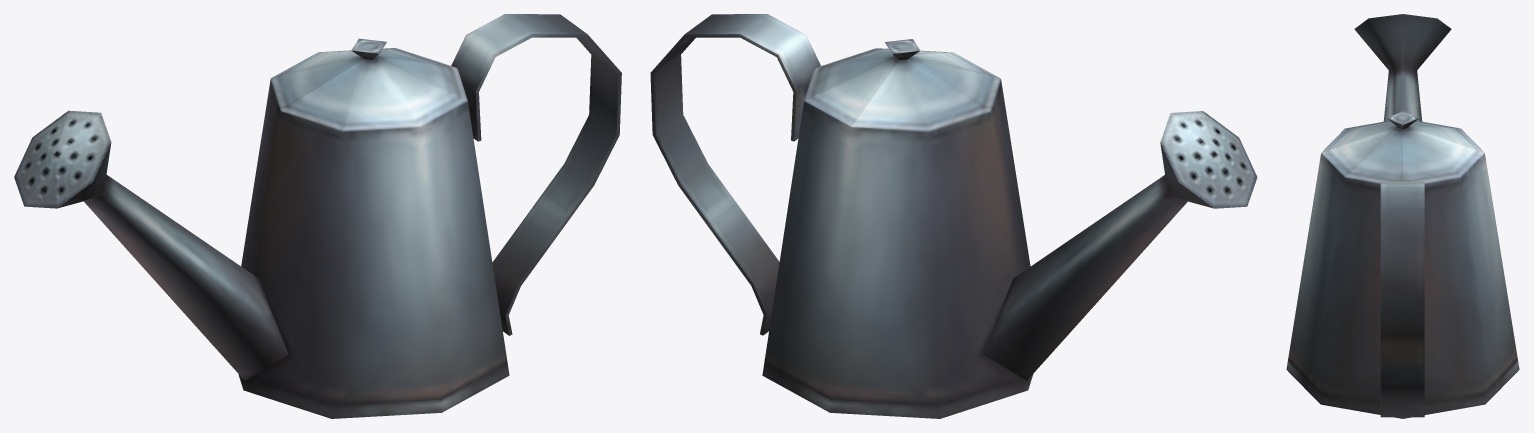
The picture shows the model from 3 angles, left to right: view 1: azimuth 30°, elevation 25°; view 2: azimuth 150°, elevation 25°; view 3: azimuth 270°, elevation 25°; orthographic projection. The views are drawn at different scales.
Parts seen in each view (by area): view 1: 293612; view 2: 293612; view 3: 293612.
Part boxes in pixels (box(x1,y1,x2,y2)): 293612: box(14, 14, 621, 418); 293612: box(650, 14, 1257, 418); 293612: box(1286, 14, 1519, 418).
Size of the model in its own units: 188 by 80.92 by 96.35.
